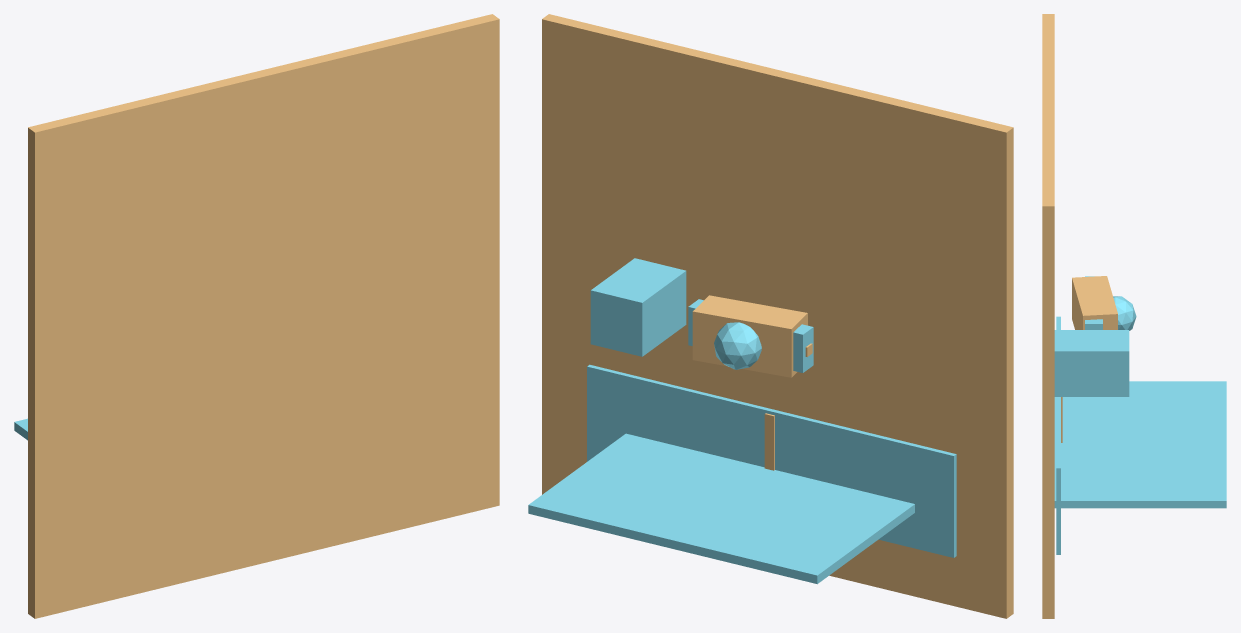
File: turbo-apex-racer-kit.glb
3 renders of one model, left to right at view 1: azimuth 30°, elevation 25°; view 2: azimuth 150°, elevation 25°; view 3: azimuth 270°, elevation 25°, orthographic. The views are drawn at different scales.
Parts seen in each view (by area): view 1: ENVIRONMENT_GROUND; view 2: ENVIRONMENT_GROUND, ENVIRONMENT_GATE, PROFILE_ENVIRONMENT_DETAIL, PROFILE_OBSTACLE_DETAIL, PLAYER_BODY, PLAYER_CORE, PROFILE_PLAYER_DETAIL; view 3: ENVIRONMENT_GATE, ENVIRONMENT_GROUND, PROFILE_OBSTACLE_DETAIL, PLAYER_BODY, PROFILE_ENVIRONMENT_DETAIL, PLAYER_CORE.
Boxes of the visible parts, x1,y1,x2,y2 form: ENVIRONMENT_GROUND: [28, 14, 499, 618]; ENVIRONMENT_GROUND: [542, 14, 1013, 618]; ENVIRONMENT_GATE: [528, 433, 914, 584]; PROFILE_ENVIRONMENT_DETAIL: [587, 364, 956, 557]; PROFILE_OBSTACLE_DETAIL: [590, 258, 686, 356]; PLAYER_BODY: [692, 295, 807, 377]; PLAYER_CORE: [714, 322, 761, 369]; PROFILE_PLAYER_DETAIL: [688, 299, 813, 372]; ENVIRONMENT_GATE: [1054, 381, 1226, 508]; ENVIRONMENT_GROUND: [1042, 14, 1054, 618]; PROFILE_OBSTACLE_DETAIL: [1054, 330, 1129, 396]; PLAYER_BODY: [1072, 276, 1117, 329]; PROFILE_ENVIRONMENT_DETAIL: [1056, 316, 1060, 554]; PLAYER_CORE: [1113, 296, 1136, 330].
Size of what is drawn, in the model's own units: 9 by 9 by 3.64.
